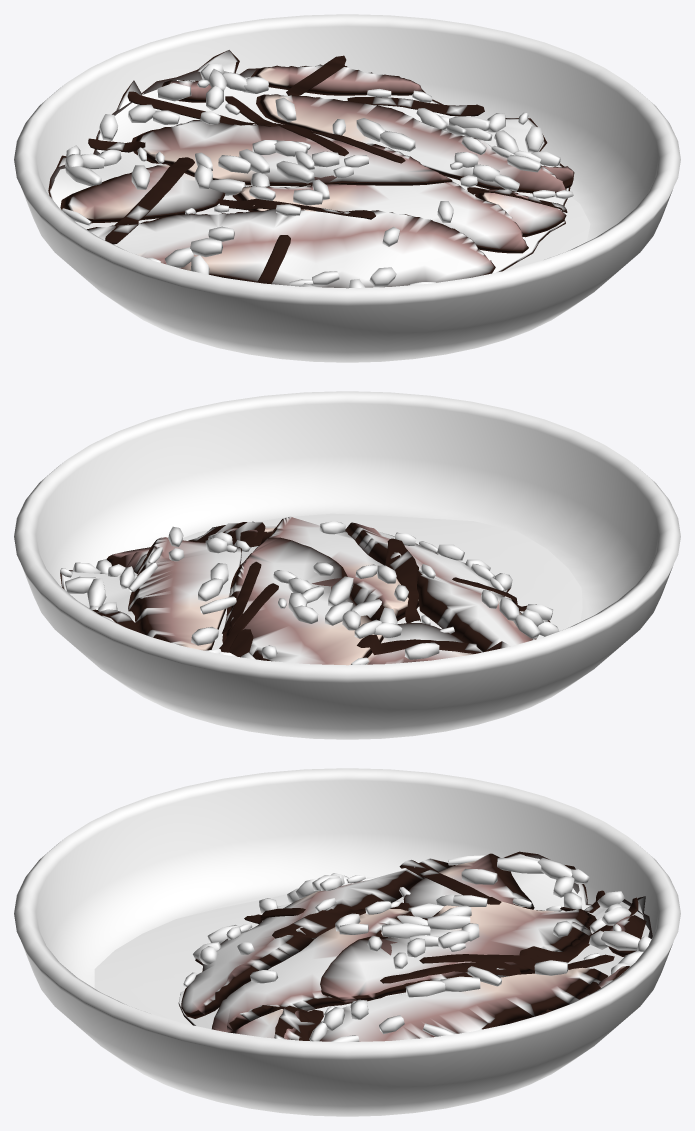
The picture shows the model from 3 angles, top to bottom: view 1: azimuth 30°, elevation 25°; view 2: azimuth 150°, elevation 25°; view 3: azimuth 270°, elevation 25°; orthographic projection.
Parts seen in each view (by area): view 1: SM_D14; view 2: SM_D14; view 3: SM_D14.
Boxes of the visible parts, x1,y1,x2,y2 form: SM_D14: (14,14,680,362); SM_D14: (14,391,680,739); SM_D14: (14,768,680,1116).
Bounding box in the file's own units: 0.197 × 0.0365 × 0.197.
